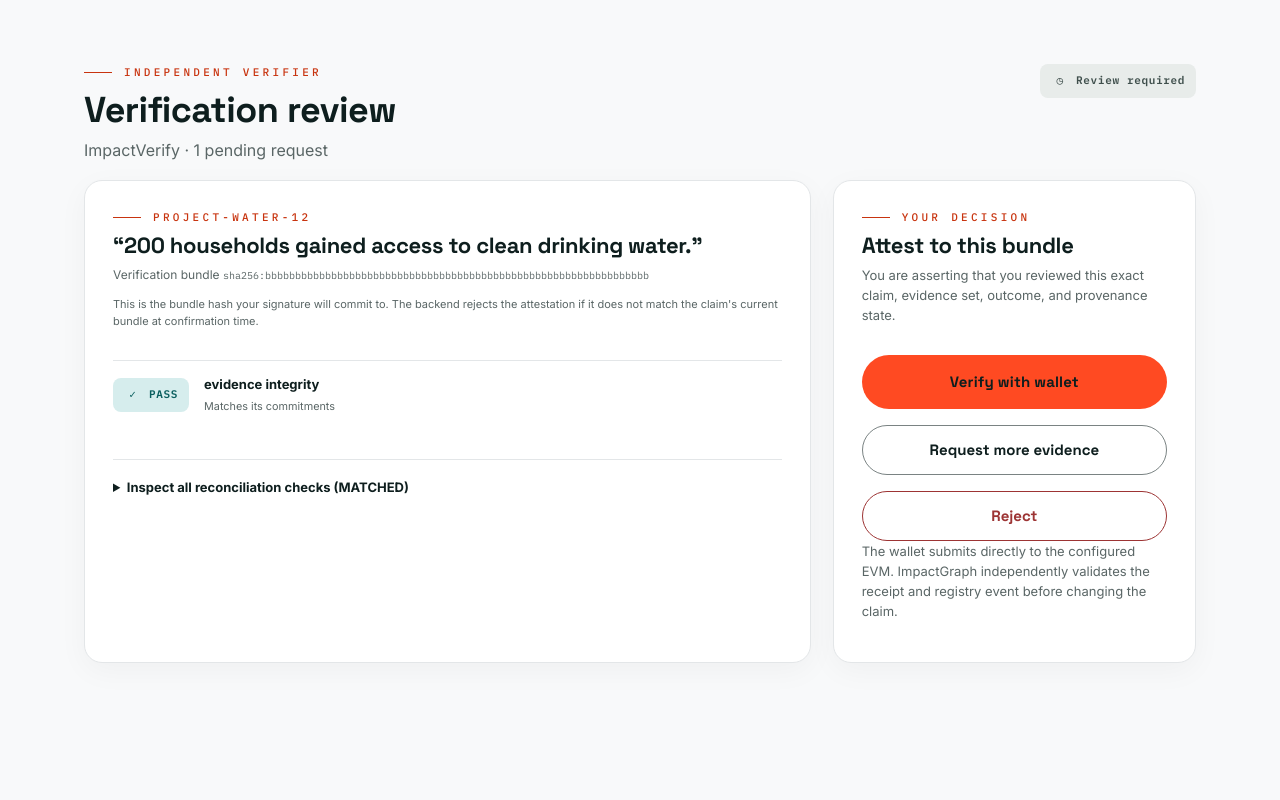
Test: Verifier wallet workflow › stays pending while the operation is only SUBMITTED
Click the button "Verify with wallet": (1014,382) [862, 355, 1167, 409]
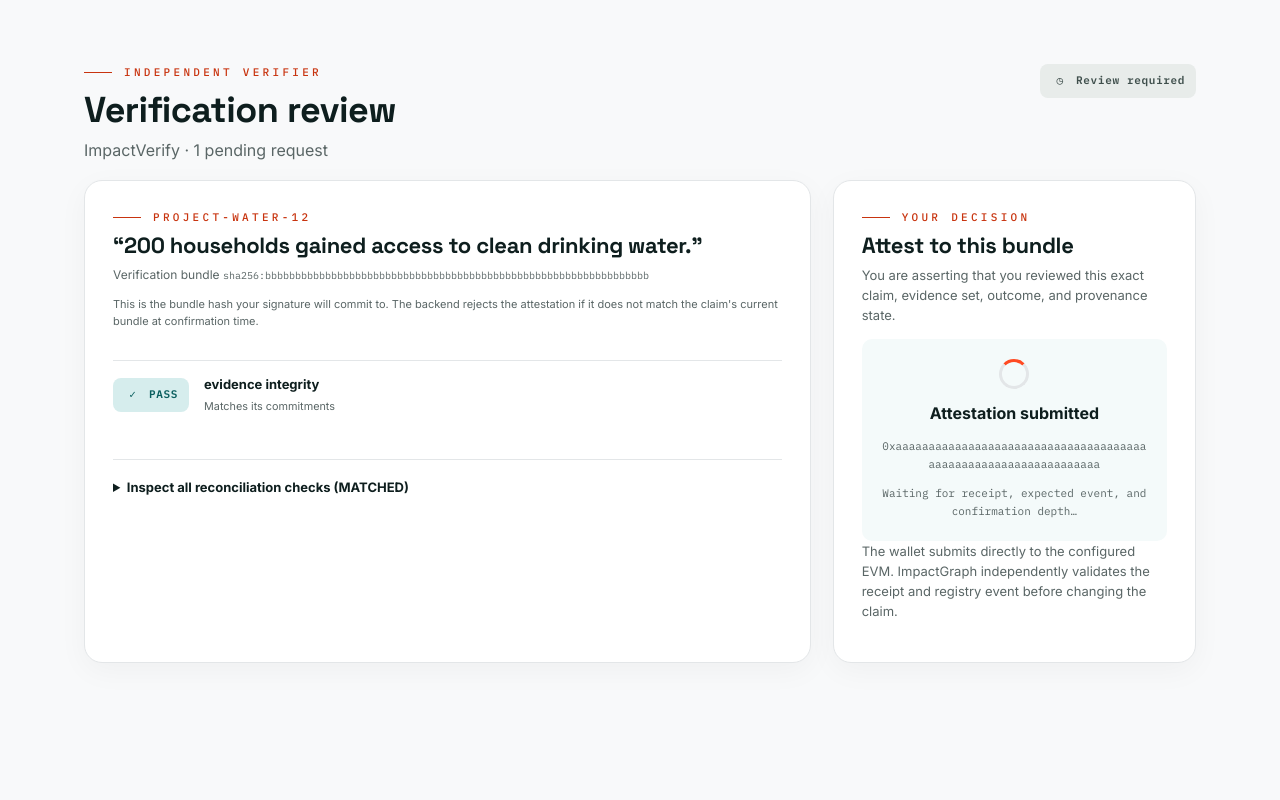
Expected: the text "Attestation submitted" is shown, [930, 401, 1099, 426]
